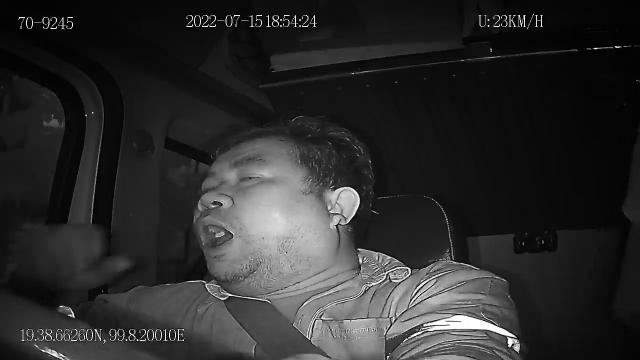Seatbelt: (221, 294, 333, 360)
